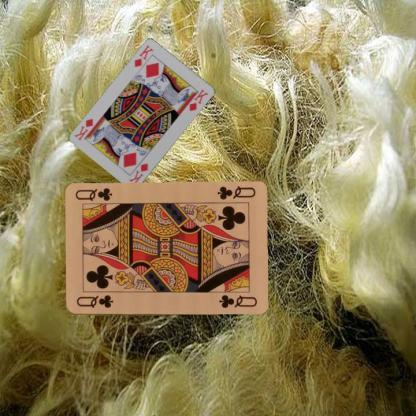Kd: (126, 160, 150, 186), (132, 43, 154, 69)
Qc: (214, 184, 257, 202), (73, 293, 114, 310)
